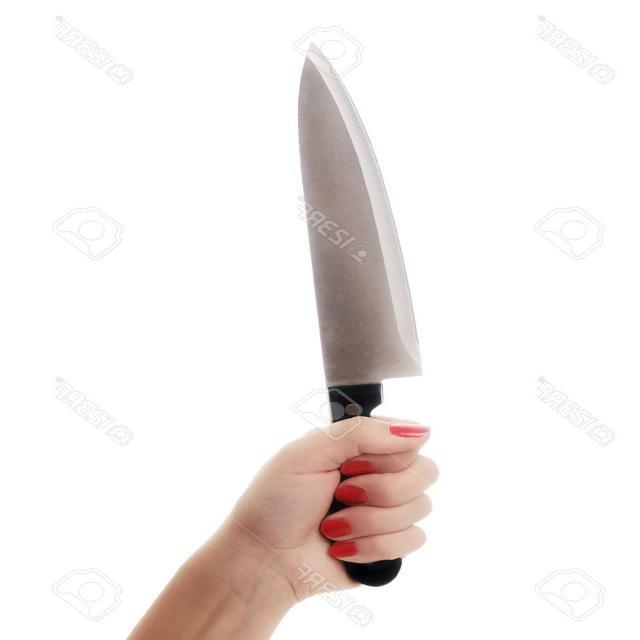Knife: (299, 45, 421, 421)
